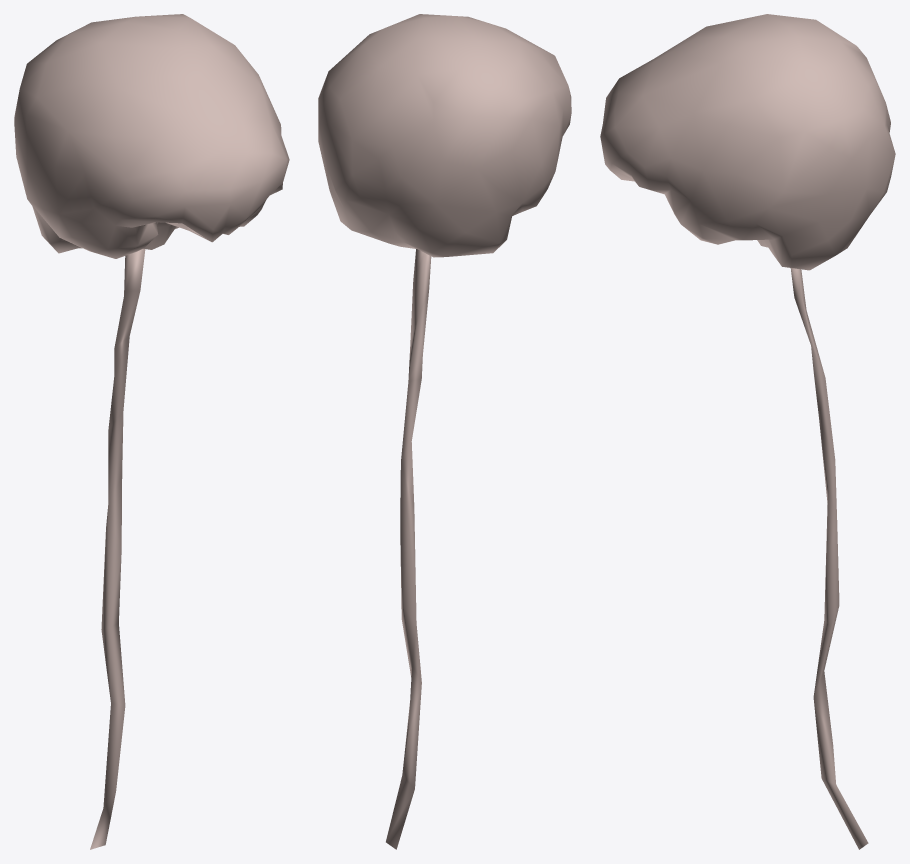
The model's file is pediatric_infant_male.nervous.LOD3.glb.
The picture shows the model from 3 angles, left to right: view 1: azimuth 30°, elevation 25°; view 2: azimuth 150°, elevation 25°; view 3: azimuth 270°, elevation 25°; orthographic projection. The views are drawn at different scales.
Parts seen in each view (by area): view 1: PEDIATRIC.INFANT.MALE.NERVOUS.BRAIN, PEDIATRIC.INFANT.MALE.NERVOUS.SPINAL_CORD; view 2: PEDIATRIC.INFANT.MALE.NERVOUS.BRAIN, PEDIATRIC.INFANT.MALE.NERVOUS.SPINAL_CORD; view 3: PEDIATRIC.INFANT.MALE.NERVOUS.BRAIN, PEDIATRIC.INFANT.MALE.NERVOUS.SPINAL_CORD.
Part boxes in pixels (bbox=[...]): PEDIATRIC.INFANT.MALE.NERVOUS.BRAIN: bbox=[14, 14, 289, 258]; PEDIATRIC.INFANT.MALE.NERVOUS.SPINAL_CORD: bbox=[90, 249, 145, 849]; PEDIATRIC.INFANT.MALE.NERVOUS.BRAIN: bbox=[318, 14, 571, 257]; PEDIATRIC.INFANT.MALE.NERVOUS.SPINAL_CORD: bbox=[386, 249, 431, 849]; PEDIATRIC.INFANT.MALE.NERVOUS.BRAIN: bbox=[600, 14, 895, 270]; PEDIATRIC.INFANT.MALE.NERVOUS.SPINAL_CORD: bbox=[790, 268, 868, 849].
Size of the model in its own units: 0.1233 by 0.4375 by 0.1432.
